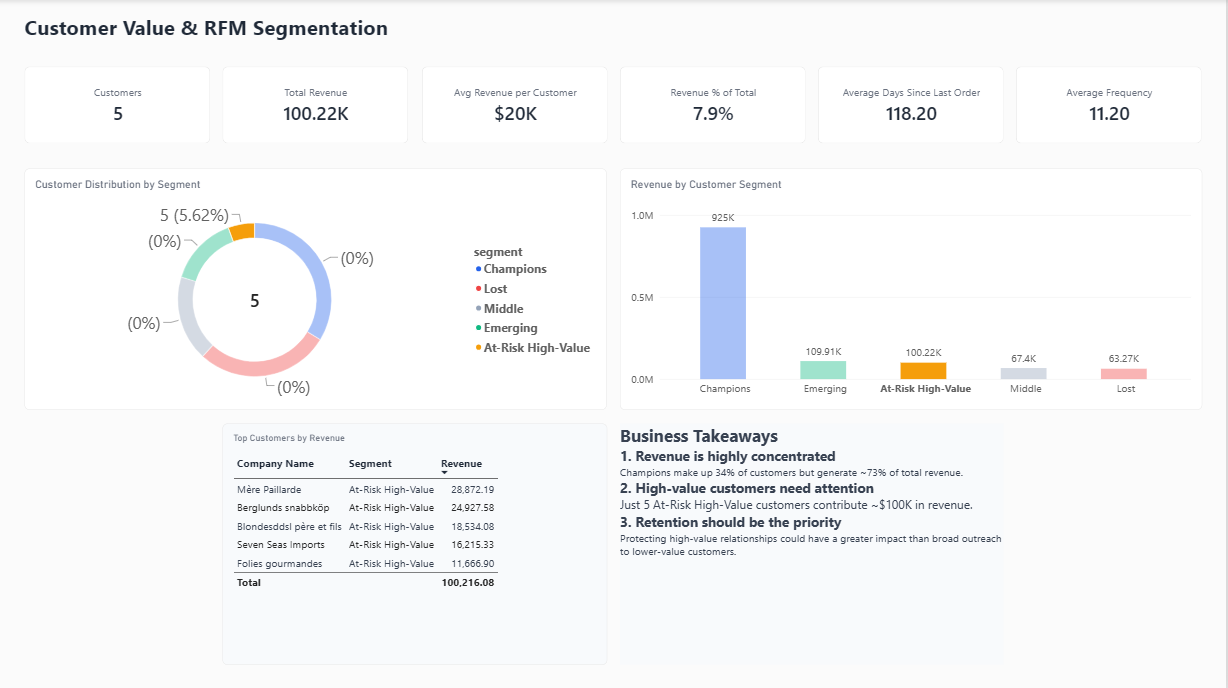

The dashboard page shown, as its layout file describes it:
{"tool":"powerbi","page":{"name":"Page 1","canvas":[1920,1080],"ordinal":0},"visuals":[{"type":"donutChart","title":"Customer Distribution by Segment","fields":{"Category":["public rfm_analysis.segment"],"Y":["CountNonNull(public rfm_analysis.segment)"]},"box":[40,265,910,377.5],"z":0},{"type":"cardVisual","fields":{"Data":["public rfm_analysis.Total Revenue1"]},"box":[350,105,290,120],"z":2},{"type":"cardVisual","fields":{"Data":["public rfm_analysis.Customers"]},"box":[40,105,290,120],"z":3},{"type":"cardVisual","fields":{"Data":["public rfm_analysis.Avg Revenue per Customer"]},"box":[660,105,290,120],"z":4},{"type":"cardVisual","fields":{"Data":["public rfm_analysis.Revenue % of Total"]},"box":[970,105,290,120],"z":6},{"type":"columnChart","title":"Revenue by Customer Segment","fields":{"Category":["public rfm_analysis.segment"],"Y":["public rfm_analysis.Total Revenue"]},"box":[970,265,910,377.5],"z":7},{"type":"cardVisual","fields":{"Data":["public rfm_analysis.Median Days Since Last Order"]},"box":[1280,105,290,120],"z":8},{"type":"cardVisual","fields":{"Data":["public rfm_analysis.Average Order Duration"]},"box":[1590,105,290,120],"z":9},{"type":"tableEx","title":"Top Customers by Revenue","fields":{"Values":["public rfm_analysis.company_name","public rfm_analysis.segment","public rfm_analysis.Total Revenue"]},"box":[349.6,663.2,601.3,377.5],"z":10},{"type":"textbox","box":[40,20,600,65],"z":11},{"type":"textbox","box":[970.8,663.2,599.3,377.5],"z":12}]}

Visuals, with their boxes in screenshot pixels (x1, y1, x2, y2), scaled from the page's 1920x1080 canvas onto the 1228x688 screenshot:
"Customer Distribution by Segment" donutChart: locate(26, 169, 608, 409)
cardVisual - public rfm_analysis.Total Revenue1: locate(224, 67, 409, 143)
cardVisual - public rfm_analysis.Customers: locate(26, 67, 211, 143)
cardVisual - public rfm_analysis.Avg Revenue per Customer: locate(422, 67, 608, 143)
cardVisual - public rfm_analysis.Revenue % of Total: locate(620, 67, 806, 143)
"Revenue by Customer Segment" columnChart: locate(620, 169, 1202, 409)
cardVisual - public rfm_analysis.Median Days Since Last Order: locate(819, 67, 1004, 143)
cardVisual - public rfm_analysis.Average Order Duration: locate(1017, 67, 1202, 143)
"Top Customers by Revenue" tableEx: locate(224, 422, 608, 663)
textbox: locate(26, 13, 409, 54)
textbox: locate(621, 422, 1004, 663)
